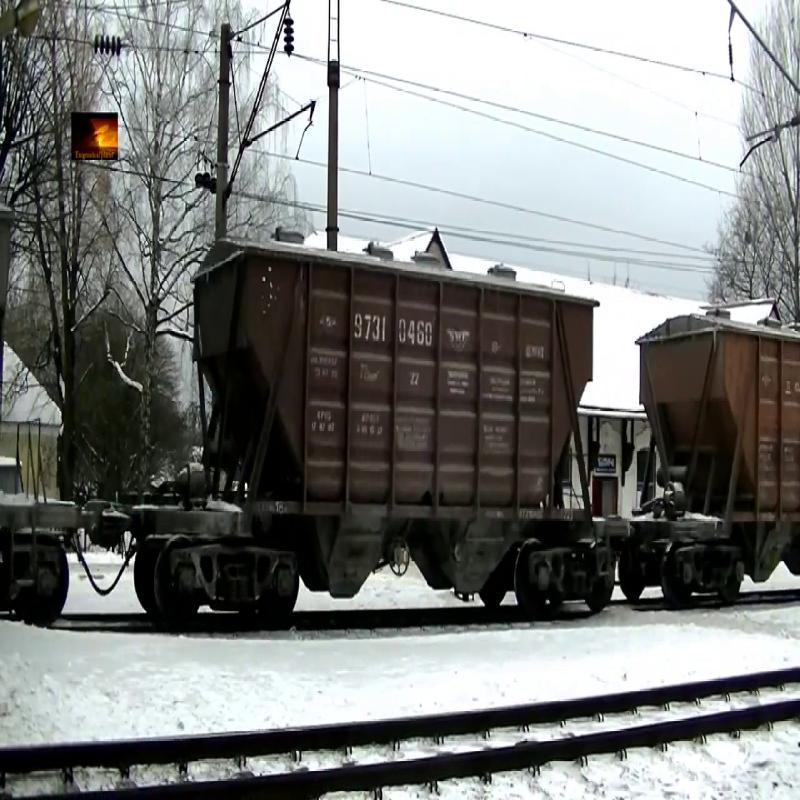train: (153, 242, 601, 626)
